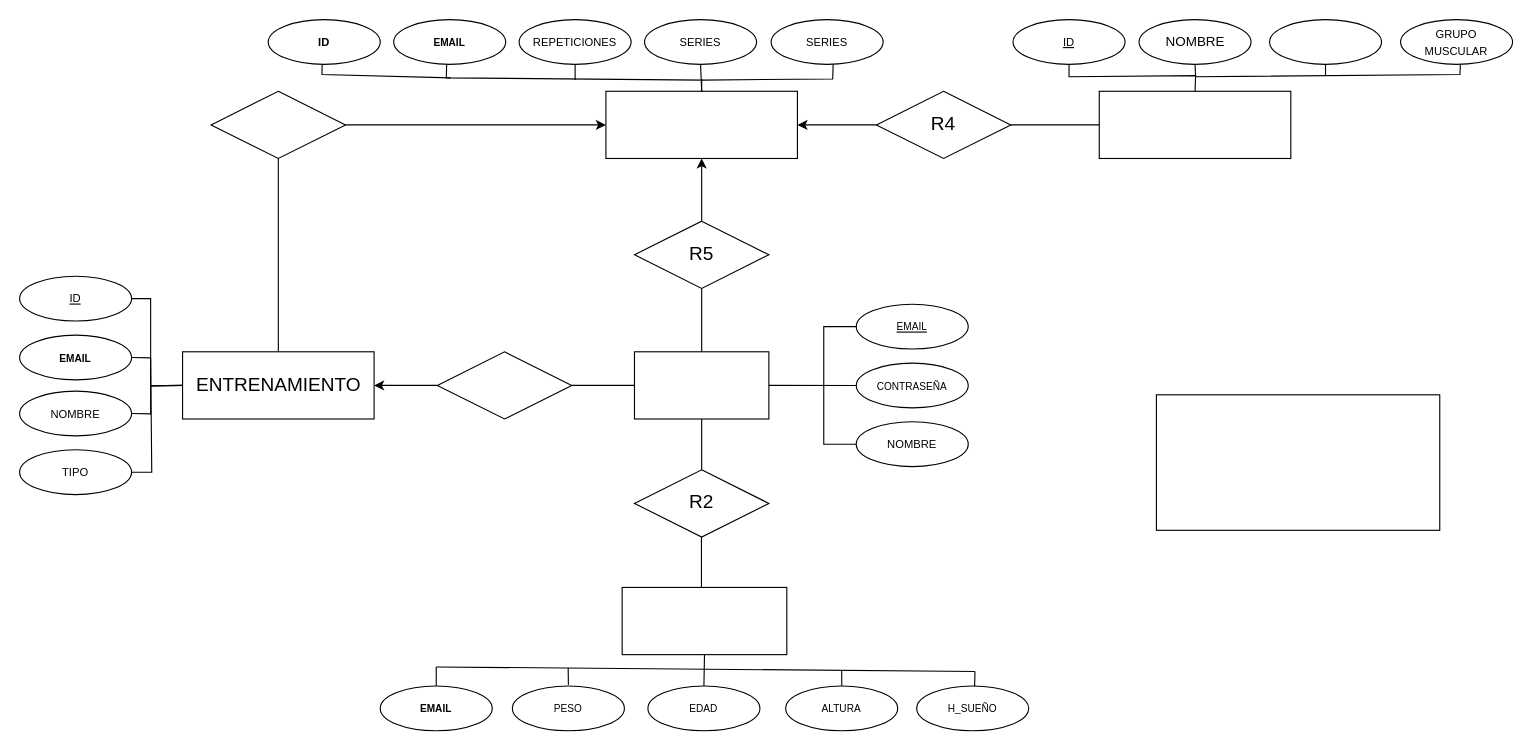
This 1532x750 diagram has some shape labels left out. Here are the shapes that lost their labels. From the top down, the box of each, then its label:
(1268, 18, 1382, 64): DESCRIPCIÓN
(210, 90, 346, 158): R3
(605, 90, 797, 158): EJERCICIO PERSONALIZADO
(1098, 90, 1291, 158): EJERCICIO
(436, 351, 572, 419): R1
(633, 351, 769, 419): USUARIO
(1155, 394, 1440, 530): R1: REALIZA R2: POSEE R3: ESTA_FORMADO_POR R4: CONSTA_DE R5: AÑADIR
(621, 586, 787, 655): ESTADÍSTICAS
